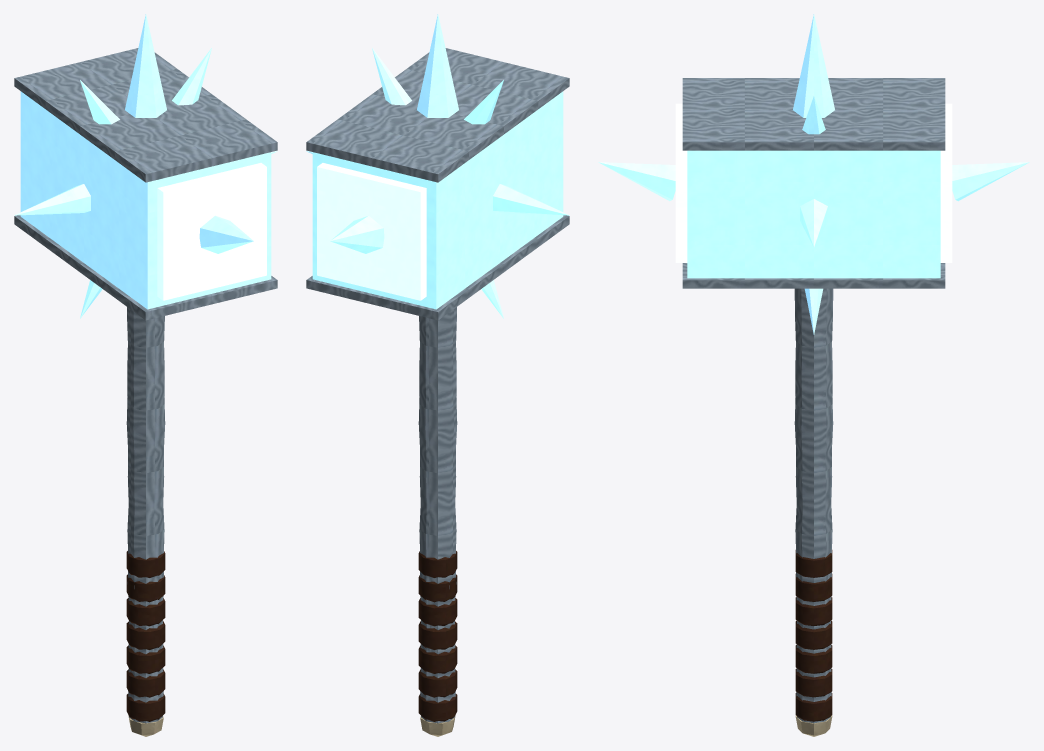
File: ice_giant_hammer.glb
3 views of the same model, side by side, from view 1: azimuth 30°, elevation 25°; view 2: azimuth 150°, elevation 25°; view 3: azimuth 270°, elevation 25° (orthographic).
Parts seen in each view (by area): view 1: ice_giant_hammer; view 2: ice_giant_hammer; view 3: ice_giant_hammer.
Part boxes in pixels (x1,y1,x2,y2): ice_giant_hammer: (14,14,277,736); ice_giant_hammer: (306,14,569,736); ice_giant_hammer: (598,14,1029,736).
Bounding box in the file's own units: 1.32 × 3.46 × 1.87.
5 materials, 5 textured.
